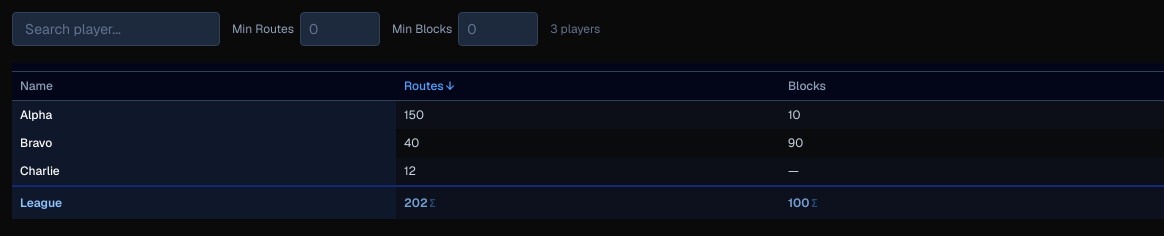
Test: StatsTableShell min filters › hides rows below the minimum, inclusive of the number typed
Type "40" into the number field labelled "Min Routes" at (340, 29), box [300,12,380,46]
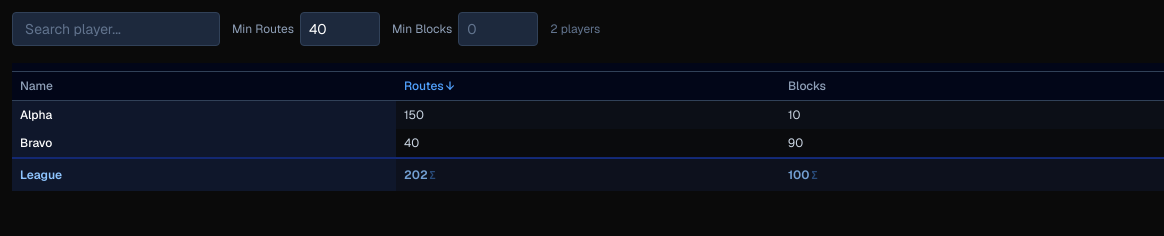
Expected: the text "2 players" is shown, [550,21,600,37]
